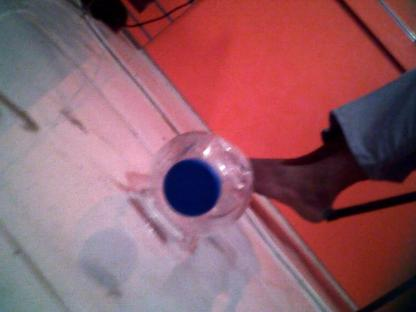Plastic Bottle: (160, 128, 254, 240)
